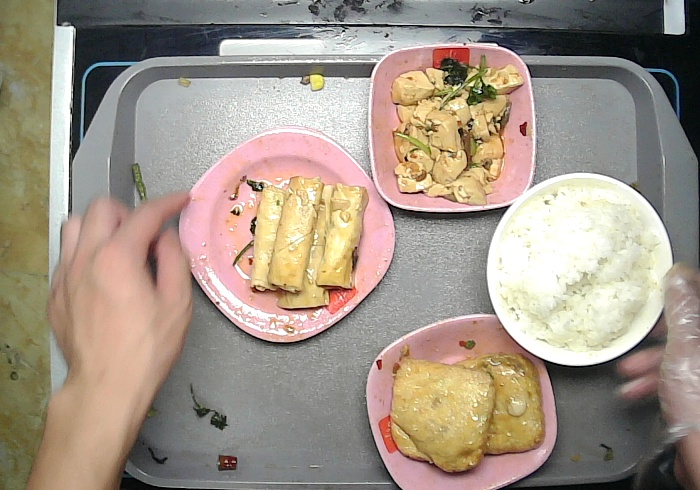SHKJ-Fan_Wan: (485, 170, 673, 369)
SHKJ-Fen_Se_Cai_Die: (366, 312, 558, 490)
SHKJ-Fen_Se_Si_Fang_Cai_Die: (178, 125, 397, 345)
SHKJ-Fen_Se_Xiao_Fang_Die: (367, 42, 538, 212)
